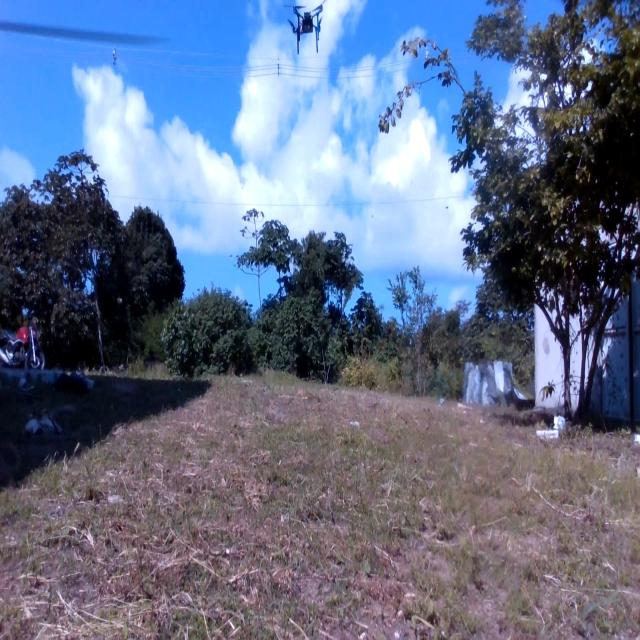-uav-: (279, 3, 333, 55)
